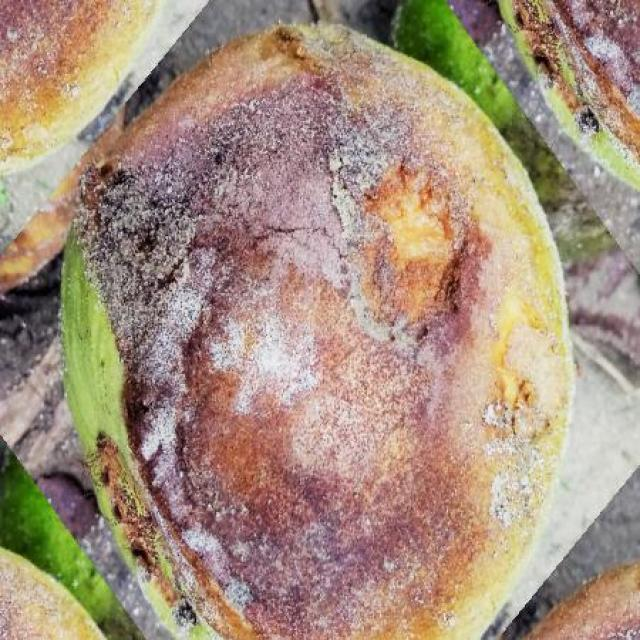Styler and Root: (61, 25, 571, 640), (0, 0, 158, 158)
